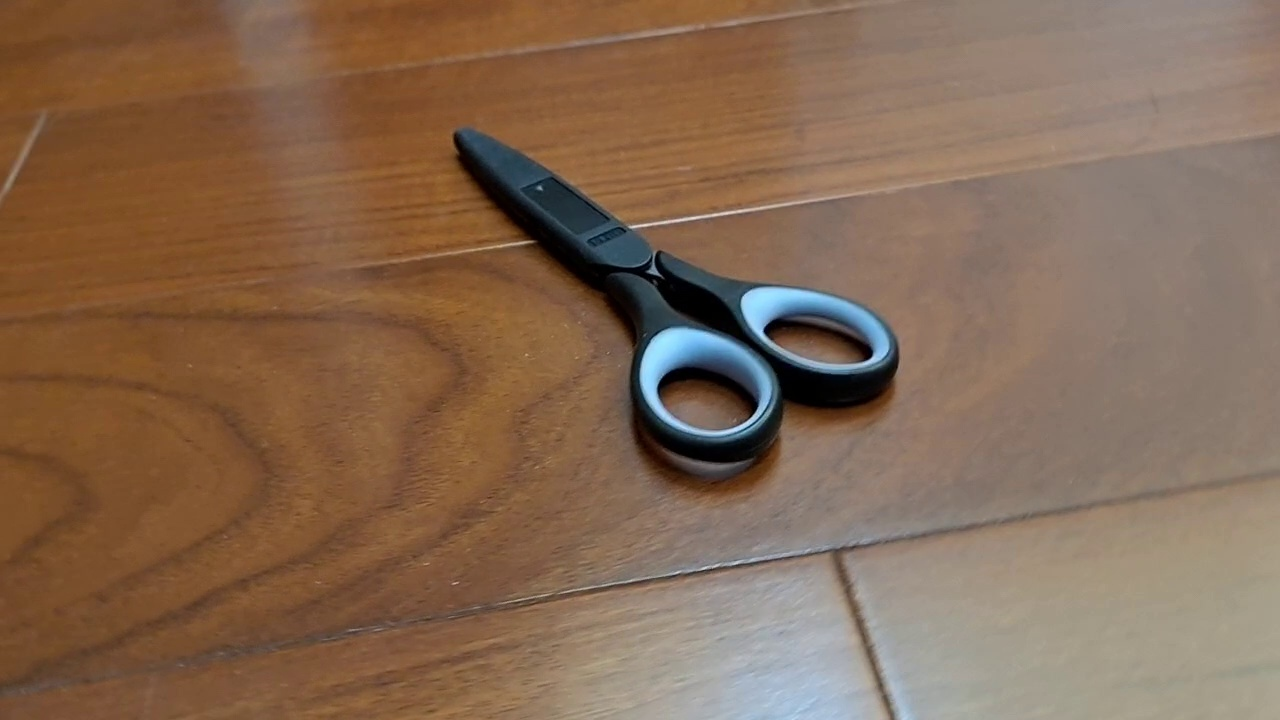scissors: (452, 126, 900, 464)
